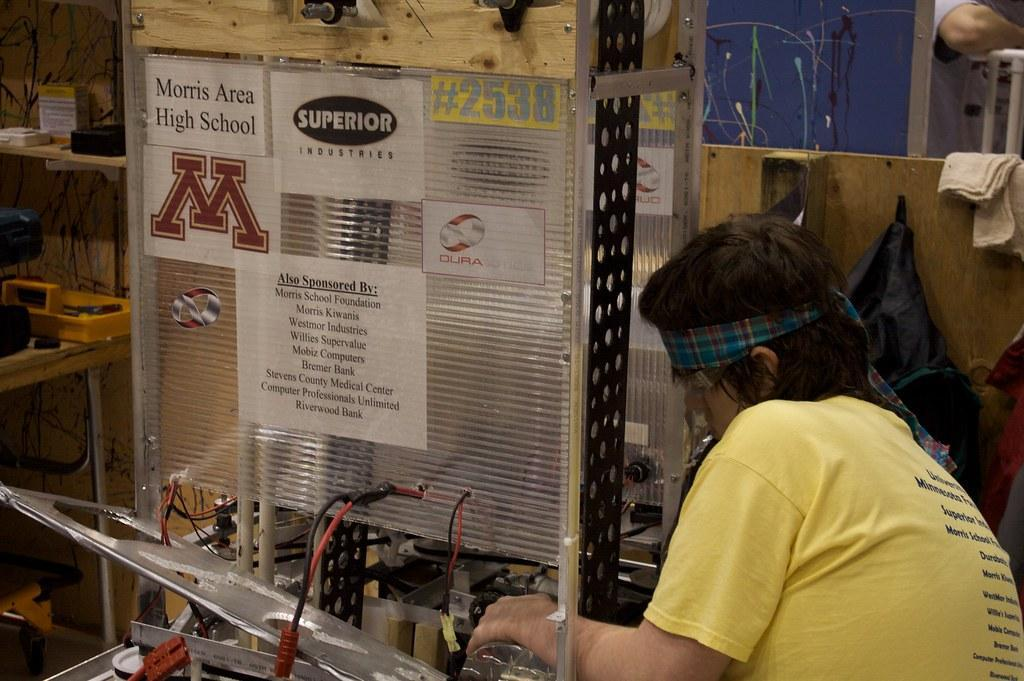robot: (0, 0, 717, 681)
